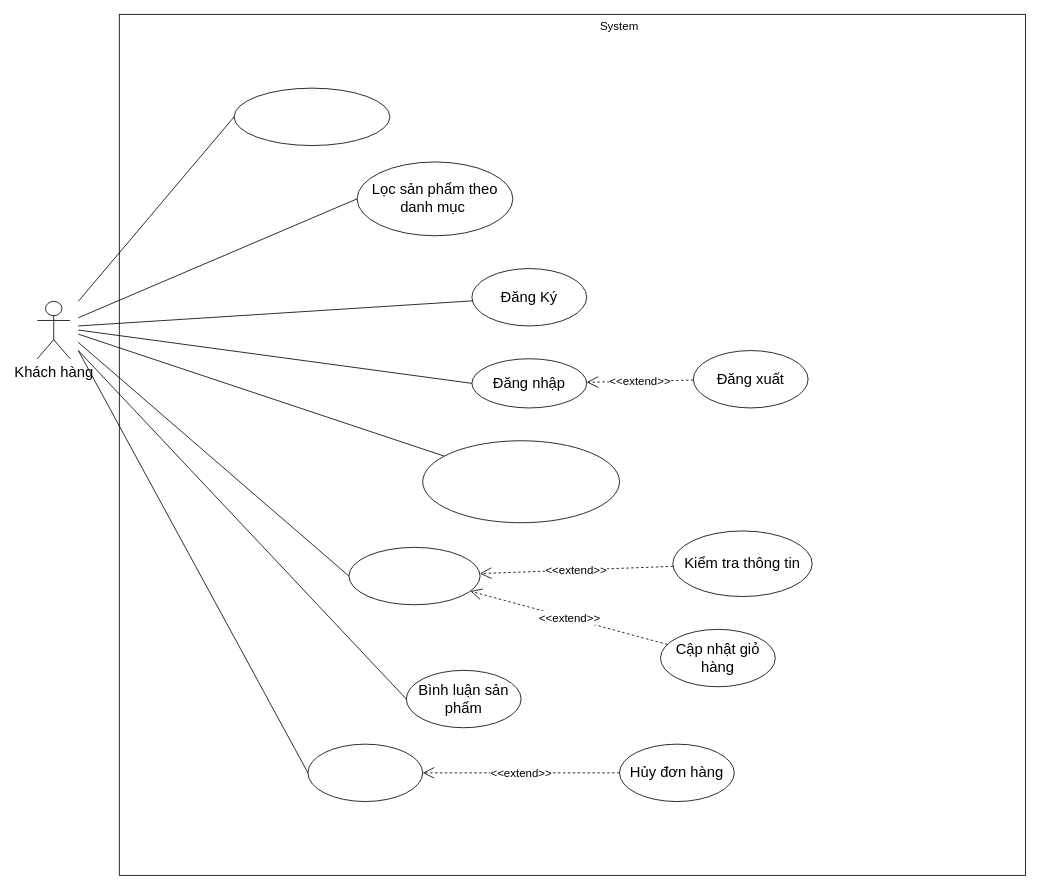
This 1040x890 diagram has some shape labels left out. Here are the shapes that lost their labels. From the top down, the centre of each, then its label:
the point at 311,116: xem thông tin sản phẩm
the point at 521,481: Thêm sản phẩm vào giỏ hàng
the point at 414,576: Xem giỏ hàng
the point at 365,772: Theo dõi đơn hàng
